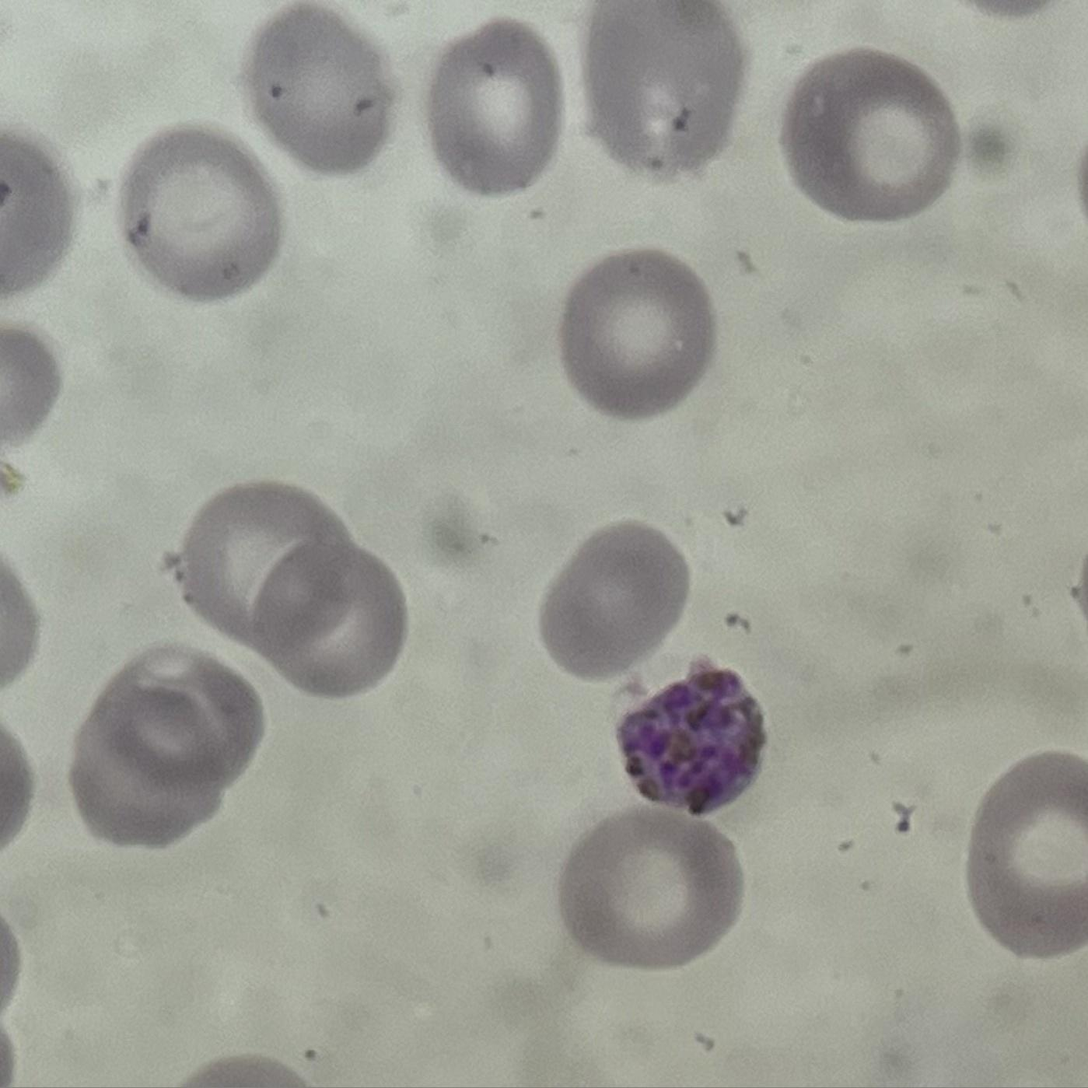Infected: (612, 665, 765, 817)
Uninfected: (780, 47, 958, 215), (562, 811, 743, 969), (122, 124, 289, 294), (185, 486, 352, 646), (591, 0, 742, 176), (560, 247, 711, 416), (535, 521, 691, 678), (970, 755, 1088, 958), (425, 20, 558, 193), (257, 543, 409, 694), (70, 693, 218, 846), (245, 12, 387, 170), (117, 642, 263, 795)
